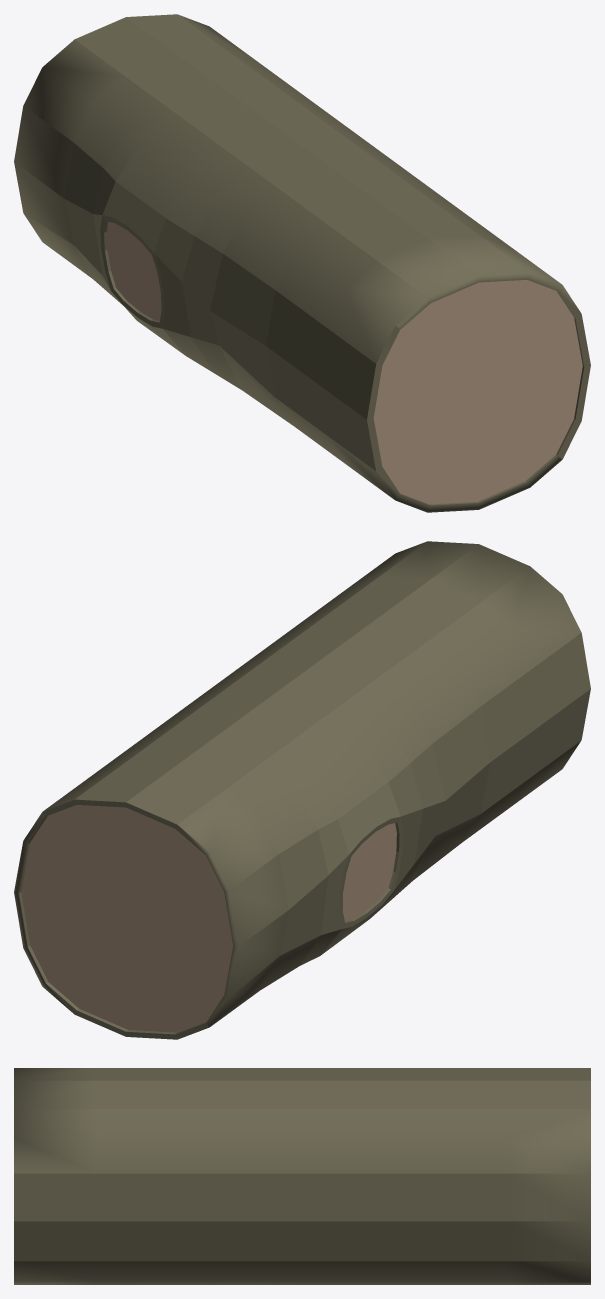
File: AshLog.fbx
3 views of the same model, one above another, from view 1: azimuth 30°, elevation 25°; view 2: azimuth 150°, elevation 25°; view 3: azimuth 270°, elevation 25° (orthographic). The views are drawn at different scales.
Visible parts, largest first — view 1: Cube; view 2: Cube; view 3: Cube.
Part boxes in pixels (bbox=[...]): Cube: bbox=[14, 14, 590, 512]; Cube: bbox=[14, 541, 590, 1039]; Cube: bbox=[14, 1068, 590, 1284].
Size of the model in its own units: 271 by 257 by 700.
